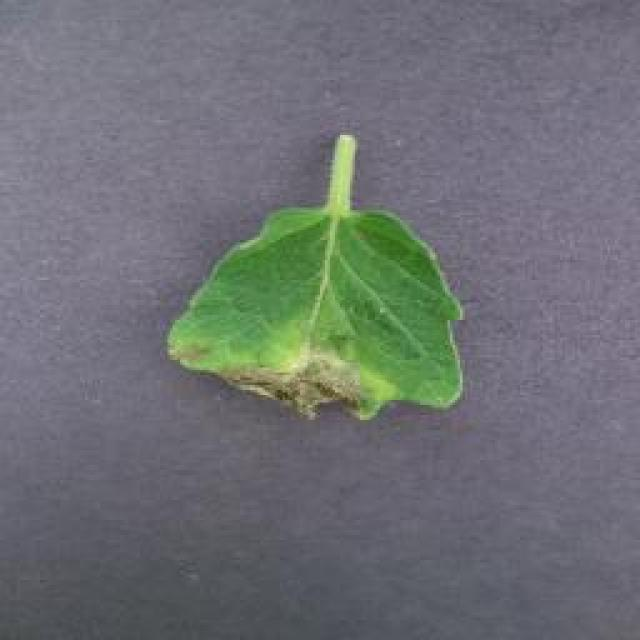Tomato_Late_Blight: (172, 336, 410, 434)
